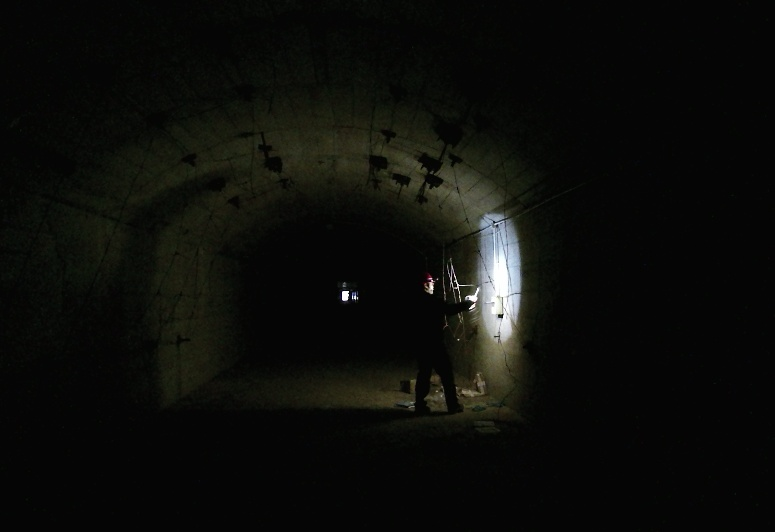person: (397, 274, 472, 418)
